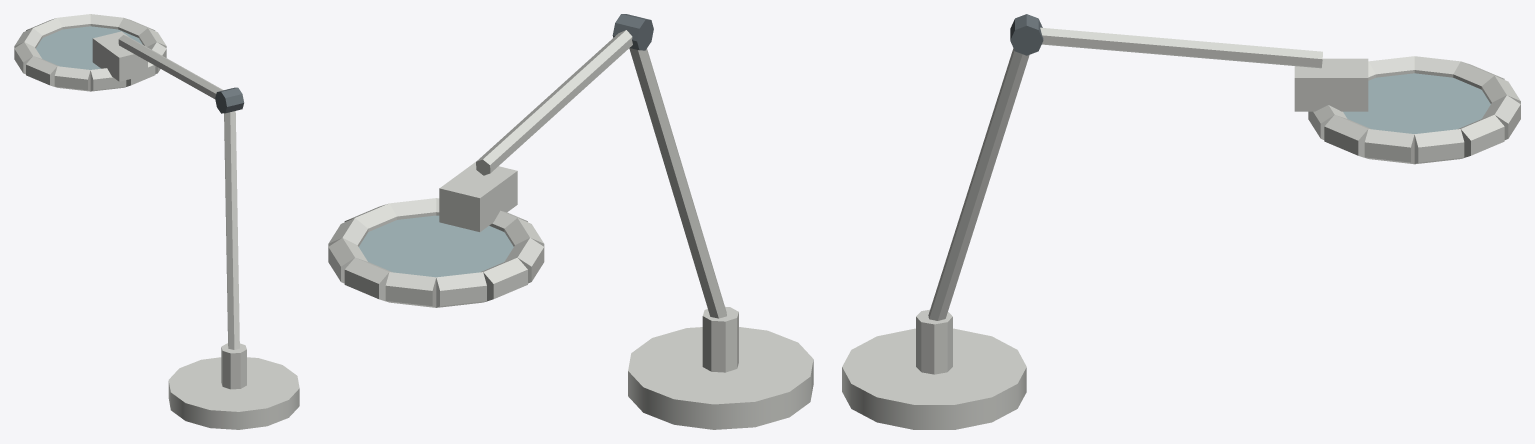
Rendered from magnifier_lamp.fbx.
3 renders of one model, left to right at view 1: azimuth 30°, elevation 25°; view 2: azimuth 150°, elevation 25°; view 3: azimuth 270°, elevation 25°, orthographic. The views are drawn at different scales.
Visible parts, largest first — view 1: magnifier_lamp; view 2: magnifier_lamp; view 3: magnifier_lamp.
Boxes of the visible parts, x1=… form: magnifier_lamp: x1=14, y1=14, x2=299, y2=429; magnifier_lamp: x1=328, y1=14, x2=813, y2=429; magnifier_lamp: x1=842, y1=14, x2=1520, y2=429.
Bounding box in the file's own units: 26.26 × 46.8 × 73.51.
